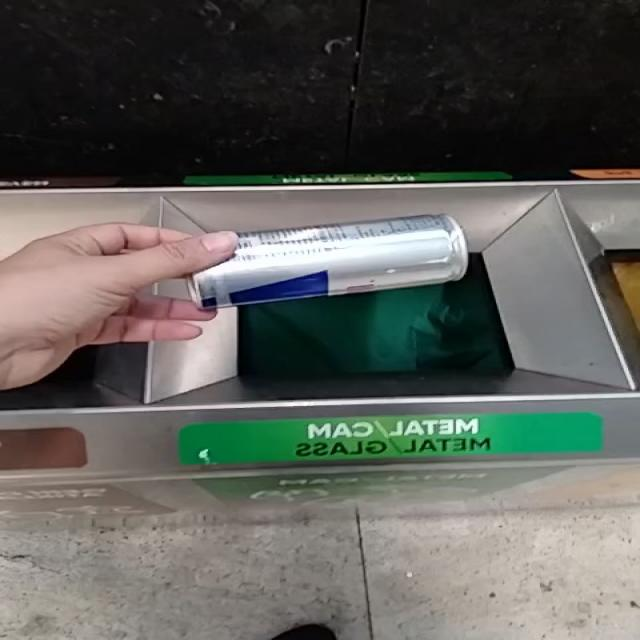bin: (0, 180, 640, 478)
metal: (191, 214, 468, 308)
